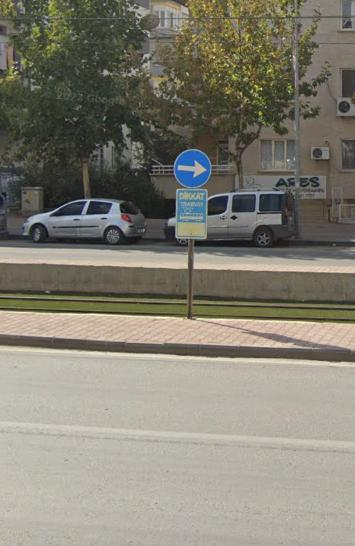forward: (175, 149, 213, 188)
